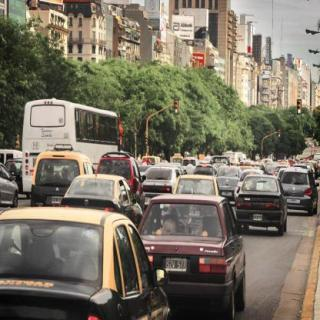Normal_vehicle: (0, 207, 169, 319), (138, 188, 245, 319)
